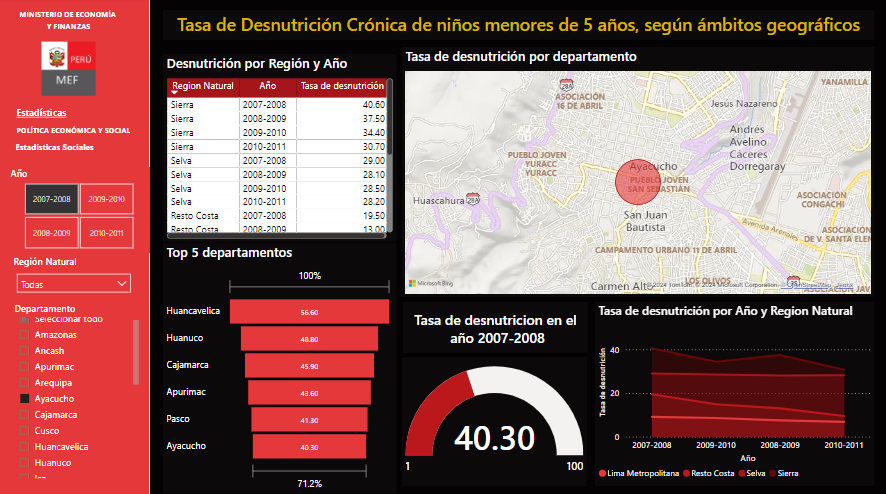

The dashboard page shown, as its layout file describes it:
{"tool":"powerbi","page":{"name":"Página 1","canvas":[1280,720],"ordinal":0},"visuals":[{"type":"shape","box":[0,0,218.9,720],"z":0},{"type":"slicer","title":"Año","fields":{"Values":["Hoja7.Año"]},"box":[13,244.8,205.9,123.8],"z":1000},{"type":"slicer","title":"Departamento","fields":{"Values":["Tabla3.Departamento"]},"box":[18.7,439.2,188.6,259.2],"z":2000},{"type":"tableEx","title":"Desnutrición por Región y Año","fields":{"Values":["Hoja5.Region Natural","Hoja5.Año","Sum(Hoja5.Tasa de desnutrición)"]},"box":[237.6,82.1,335.5,270.7],"z":3000},{"type":"textbox","box":[22.2,10.1,160.6,52.5],"z":4000},{"type":"image","box":[57.6,53.3,87.8,99.4],"z":5000},{"type":"textbox","box":[21.2,152.5,91.9,27.3],"z":6000},{"type":"textbox","box":[22.2,177.8,183.8,31.3],"z":7000},{"type":"textbox","box":[20.8,201.4,162.5,30.6],"z":8000},{"type":"funnel","title":"Top 5 departamentos","fields":{"Category":["Hoja7.Departamento"],"Y":["Sum(Hoja7.Tasa de Desnutrición)"]},"box":[237.6,354.2,335.5,361.4],"z":9000},{"type":"card","fields":{"Values":["Hoja5.Titulo del velocimetro"]},"box":[583.2,439.2,266.4,73.4],"z":10000},{"type":"gauge","fields":{"Y":["Sum(Hoja7.Tasa de Desnutrición)"],"MaxValue":["Hoja5.Maximo"],"MinValue":["Hoja5.Minimo"]},"box":[581.8,518.4,266.4,185.8],"z":11000},{"type":"map","title":"Tasa de desnutrición por departamento","fields":{"Size":["Sum(Hoja7.Tasa de Desnutrición)"],"Y":["Coordenadas.lat"],"X":["Coordenadas.lng"]},"box":[581.8,72,679.7,360],"z":12000},{"type":"areaChart","title":"Tasa de desnutrición por Año y Region Natural","fields":{"Category":["Tabla2.Año"],"Y":["Sum(Tabla2.Tasa de desnutrición)"],"Series":["Tabla2.Region Natural"]},"box":[859.7,439.2,401.8,265],"z":13000},{"type":"card","fields":{"Values":["Hoja5.Titulo"]},"box":[237.6,18.7,1023.8,43.2],"z":14000},{"type":"slicer","title":"Región Natural","fields":{"Values":["Tabla2.Region Natural"]},"box":[17.3,371.5,184.3,67.7],"z":15000}]}

Visuals, with their boxes on the page's 1280x720 design canvas (x1, y1, x2, y2). These are canvas units, not pixel positions in the 886x494 screenshot, which may show the page scaled, cropped or inside an application window:
shape: x1=0, y1=0, x2=219, y2=720
"Año" slicer: x1=13, y1=245, x2=219, y2=369
"Departamento" slicer: x1=19, y1=439, x2=207, y2=698
"Desnutrición por Región y Año" tableEx: x1=238, y1=82, x2=573, y2=353
textbox: x1=22, y1=10, x2=183, y2=63
image: x1=58, y1=53, x2=145, y2=153
textbox: x1=21, y1=152, x2=113, y2=180
textbox: x1=22, y1=178, x2=206, y2=209
textbox: x1=21, y1=201, x2=183, y2=232
"Top 5 departamentos" funnel: x1=238, y1=354, x2=573, y2=716
card - Hoja5.Titulo del velocimetro: x1=583, y1=439, x2=850, y2=513
gauge - Sum(Hoja7.Tasa de Desnutrición) x Hoja5.Maximo: x1=582, y1=518, x2=848, y2=704
"Tasa de desnutrición por departamento" map: x1=582, y1=72, x2=1262, y2=432
"Tasa de desnutrición por Año y Region Natural" areaChart: x1=860, y1=439, x2=1262, y2=704
card - Hoja5.Titulo: x1=238, y1=19, x2=1261, y2=62
"Región Natural" slicer: x1=17, y1=372, x2=202, y2=439
